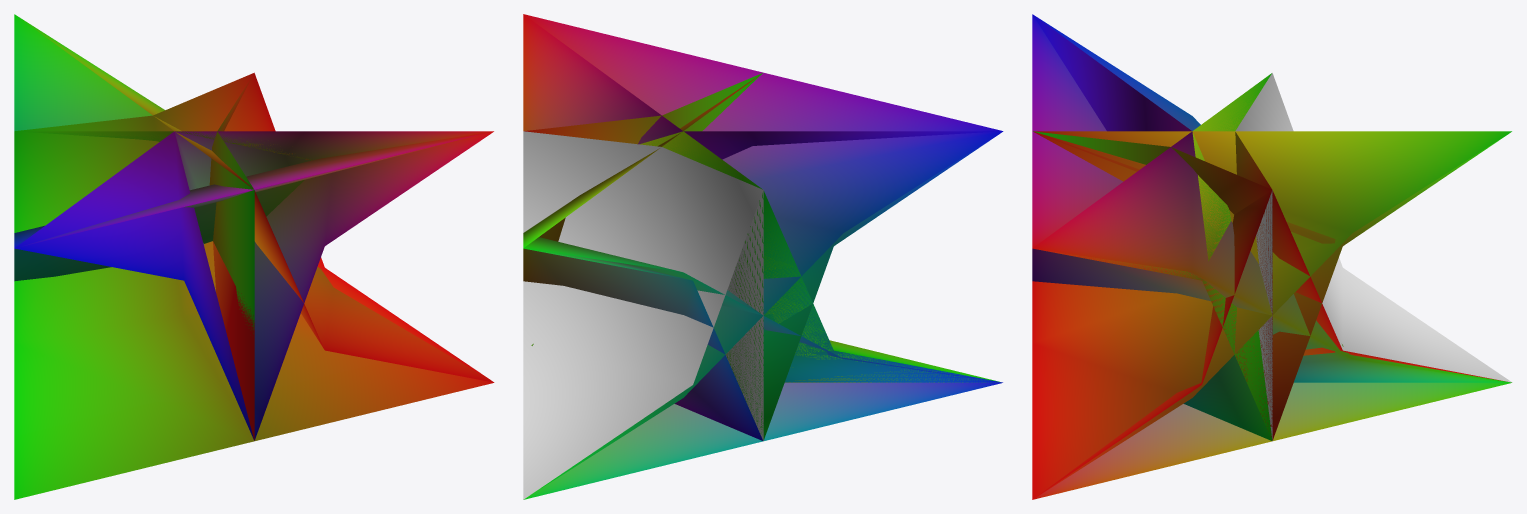
Rendered from GenCaves2.fbx.
3 views of the same model, side by side, from view 1: azimuth 30°, elevation 25°; view 2: azimuth 150°, elevation 25°; view 3: azimuth 270°, elevation 25° (orthographic).
Parts seen in each view (by area): view 1: Revcorner Baseboard, Tunnel Thin Ledge, Upper Curve, Tunnel Stair, Lower Curve, Lower Slope, End Baseboard, Upper Slope, Corner Gutter, End Gutter, Tunnel Broad Ledge; view 2: Corner Baseboard, Upper Slope, Floor, Tunnel Stair, Revcorner Gutter, Tunnel Broad Ledge, Corner, Corner Gutter, End Baseboard, Tunnel Broad Stair, Lower Slope, Lower Curve (+3 smaller); view 3: Lower Curve, Tunnel Stair, Floor, Upper Slope, Corner Baseboard, Upper Curve, Tunnel Thin Ledge, End Baseboard, Tunnel Broad Ledge, End Gutter, Revcorner Baseboard, Tunnel Broad Stair (+2 smaller).
Boxes of the visible parts, <box> form: Revcorner Baseboard: <box>14,72,493,499</box>; Tunnel Thin Ledge: <box>15,131,492,440</box>; Upper Curve: <box>254,131,493,439</box>; Tunnel Stair: <box>14,132,196,303</box>; Lower Curve: <box>16,15,493,382</box>; Lower Slope: <box>14,14,152,131</box>; End Baseboard: <box>209,74,254,333</box>; Upper Slope: <box>14,131,491,247</box>; Corner Gutter: <box>14,134,480,281</box>; End Gutter: <box>213,241,254,440</box>; Tunnel Broad Ledge: <box>18,131,311,160</box>; Corner Baseboard: <box>523,131,763,499</box>; Upper Slope: <box>523,14,1003,496</box>; Floor: <box>523,382,1002,499</box>; Tunnel Stair: <box>523,14,999,345</box>; Revcorner Gutter: <box>523,248,762,440</box>; Tunnel Broad Ledge: <box>640,131,1002,382</box>; Corner: <box>725,190,763,440</box>; Corner Gutter: <box>763,134,998,439</box>; End Baseboard: <box>524,73,762,144</box>; Tunnel Broad Stair: <box>641,131,995,382</box>; Lower Slope: <box>523,237,995,381</box>; Lower Curve: <box>523,75,759,247</box>; Lower Curve: <box>1032,131,1511,499</box>; Tunnel Stair: <box>1032,15,1510,382</box>; Floor: <box>1032,382,1511,499</box>; Upper Slope: <box>1032,14,1507,381</box>; Corner Baseboard: <box>1235,73,1511,382</box>; Upper Curve: <box>1032,248,1506,382</box>; Tunnel Thin Ledge: <box>1032,14,1271,440</box>; End Baseboard: <box>1033,131,1504,381</box>; Tunnel Broad Ledge: <box>1036,73,1271,439</box>; End Gutter: <box>1037,133,1507,439</box>; Revcorner Baseboard: <box>1035,132,1272,497</box>; Tunnel Broad Stair: <box>1065,73,1272,440</box>.
Size of the model in its own units: 2 by 1 by 1.73.
